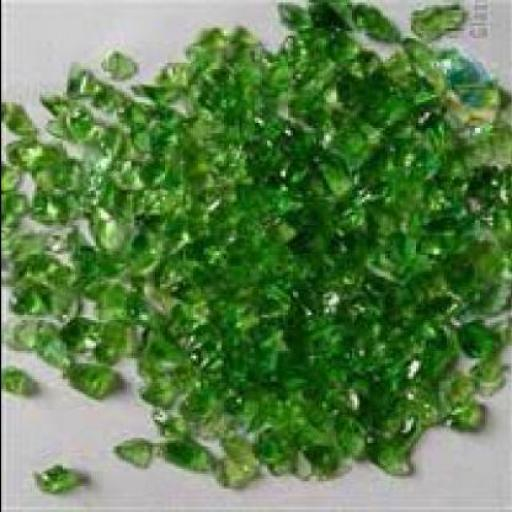glass: (353, 109, 481, 282), (205, 246, 350, 376), (234, 144, 384, 266), (325, 243, 479, 359), (126, 190, 244, 312), (310, 51, 416, 153), (189, 62, 302, 156), (138, 284, 258, 368), (138, 116, 261, 197), (102, 102, 192, 172), (277, 41, 351, 108), (340, 358, 407, 420), (394, 366, 448, 428), (174, 382, 231, 440), (451, 84, 507, 141), (3, 281, 79, 323), (287, 378, 346, 432), (230, 379, 289, 430), (335, 3, 392, 54), (433, 56, 484, 108), (81, 162, 126, 220), (404, 5, 466, 47), (250, 425, 300, 476), (468, 266, 510, 322), (23, 458, 84, 496), (358, 435, 400, 487), (153, 440, 210, 478), (297, 435, 341, 484), (0, 235, 49, 279), (474, 108, 509, 169), (56, 152, 84, 226), (184, 32, 233, 74), (484, 194, 510, 268), (59, 374, 123, 404), (26, 328, 64, 378), (81, 215, 123, 259), (442, 368, 484, 412), (218, 432, 253, 482), (107, 435, 151, 473), (74, 125, 112, 169), (18, 258, 69, 290), (454, 325, 492, 367), (2, 319, 44, 357), (128, 371, 170, 409), (26, 179, 59, 226), (30, 150, 62, 198), (56, 323, 94, 363), (471, 356, 507, 398), (62, 61, 97, 103), (90, 317, 120, 366), (95, 51, 133, 89), (72, 248, 98, 302), (150, 66, 198, 95), (48, 108, 90, 141), (400, 48, 432, 90), (117, 322, 146, 367), (87, 287, 123, 322), (94, 251, 126, 289), (1, 143, 36, 177), (144, 404, 182, 435), (1, 96, 26, 142), (487, 166, 509, 216), (272, 5, 310, 33), (210, 461, 240, 492), (487, 304, 509, 346), (0, 200, 22, 242), (218, 30, 253, 56), (304, 2, 330, 36), (1, 368, 26, 400), (223, 54, 251, 80), (448, 410, 479, 432), (39, 94, 61, 120), (1, 176, 16, 202)
